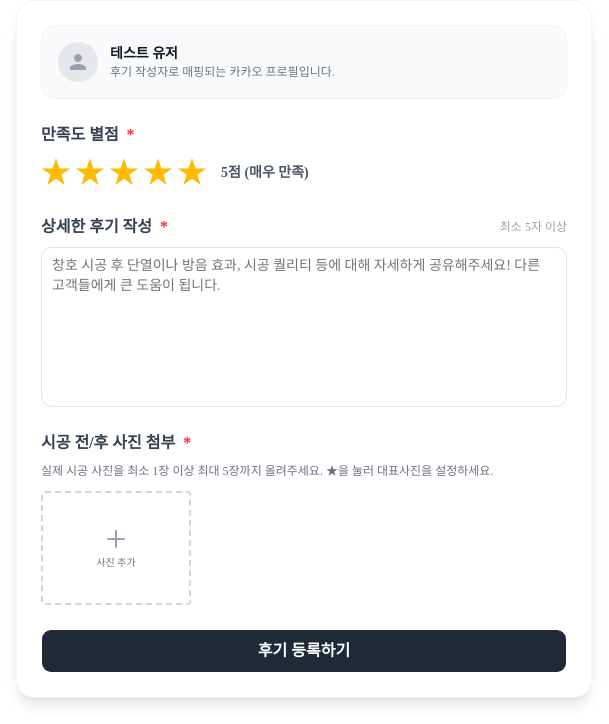
Test: ReviewForm › 별점 클릭 시 선택된 점수가 표시된다
Click the button named "별점 3점 설정" at (124, 173), box x1=109 y1=155 x2=139 y2=191
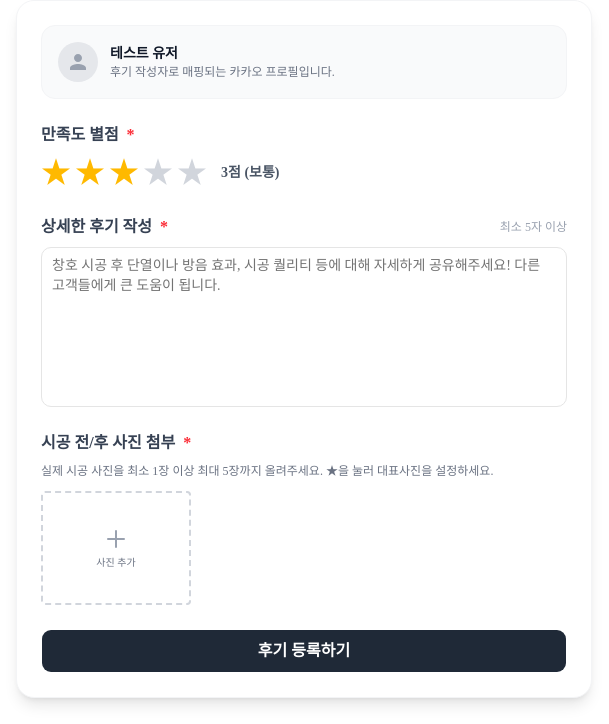
Expected: the text "3점 (보통)" is shown, x1=221 y1=163 x2=280 y2=183
